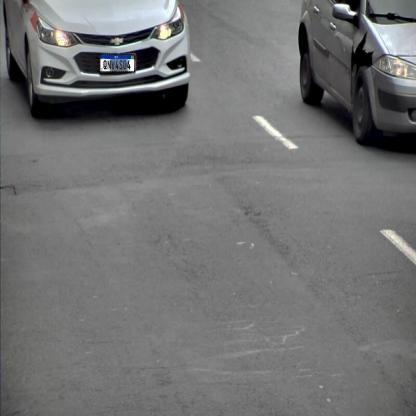PlacaM: (100, 54, 135, 72)
